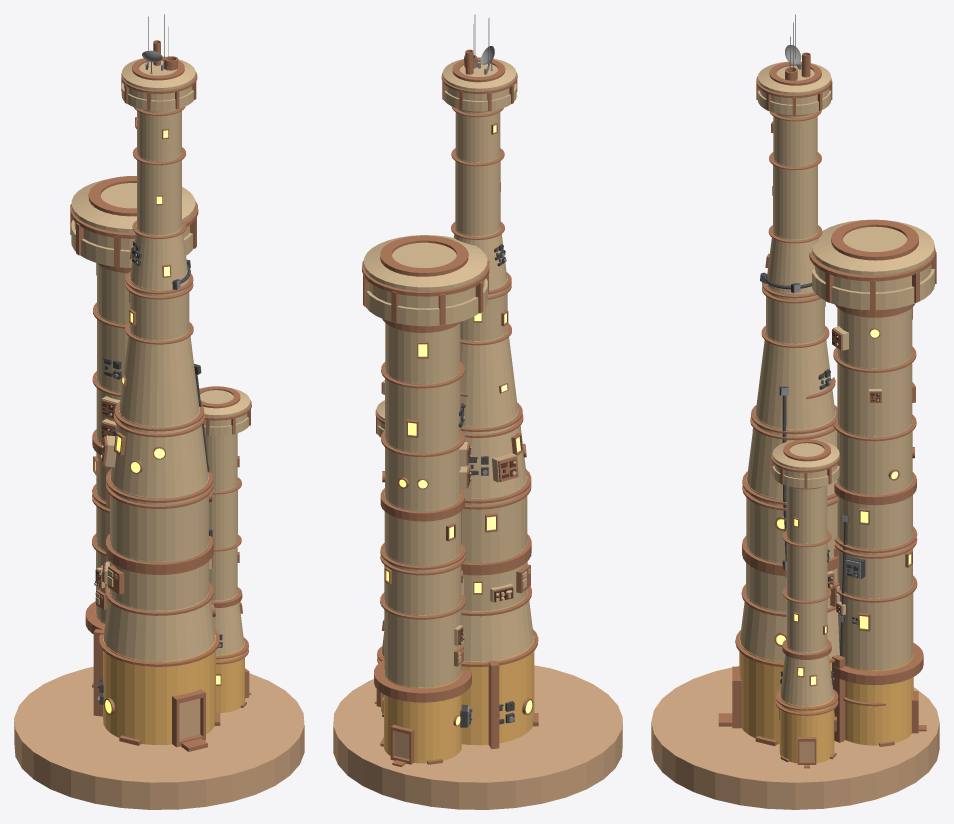
The model's file is nomad_building_13.fbx.
The picture shows the model from 3 angles, left to right: view 1: azimuth 30°, elevation 25°; view 2: azimuth 150°, elevation 25°; view 3: azimuth 270°, elevation 25°; orthographic projection.
Parts seen in each view (by area): view 1: B13_M_Foundation_foundation, B13_M_Drum0, B13_M_Drum5, B13_M_Drum3, B13_M_Drum4, B13_M_Drum1, B13_A1_Crown_RoofCap_Brim, B13_M_Drum2, B13_M_Drum8, B13_M_Drum6, B13_M_Drum7, B13_M_Crown_RoofCap_Brim (+21 smaller); view 2: B13_M_Foundation_foundation, B13_A1_Crown_RoofCap_Brim, B13_A1_Drum1, B13_A1_Drum5, B13_M_Drum0, B13_M_Drum5, B13_A1_Drum0, B13_A1_Drum4, B13_A1_Drum6, B13_M_Drum3, B13_A1_Drum3, B13_M_Drum1 (+17 smaller); view 3: B13_M_Foundation_foundation, B13_A1_Crown_RoofCap_Brim, B13_M_Drum5, B13_A1_Drum5, B13_A1_Drum1, B13_A1_Drum0, B13_A1_Drum4, B13_A1_Drum6, B13_A1_Drum3, B13_M_Drum8, B13_M_Drum0, B13_A1_Drum2 (+24 smaller).
Part boxes in pixels (left/top/right/bottom): B13_M_Foundation_foundation: left=14, top=667, right=304, bottom=809; B13_M_Drum0: left=103, top=634, right=215, bottom=744; B13_M_Drum5: left=119, top=327, right=199, bottom=426; B13_M_Drum3: left=110, top=474, right=208, bottom=561; B13_M_Drum4: left=110, top=407, right=208, bottom=497; B13_M_Drum1: left=103, top=589, right=215, bottom=661; B13_A1_Crown_RoofCap_Brim: left=71, top=179, right=195, bottom=267; B13_M_Drum2: left=109, top=540, right=209, bottom=610; B13_M_Drum8: left=137, top=152, right=181, bottom=234; B13_M_Drum6: left=129, top=276, right=189, bottom=340; B13_M_Drum7: left=130, top=224, right=188, bottom=289; B13_M_Crown_RoofCap_Brim: left=121, top=58, right=195, bottom=111; B13_M_Foundation_foundation: left=333, top=665, right=622, bottom=809; B13_A1_Crown_RoofCap_Brim: left=363, top=235, right=487, bottom=326; B13_A1_Drum1: left=384, top=598, right=461, bottom=687; B13_A1_Drum5: left=385, top=367, right=460, bottom=452; B13_M_Drum0: left=461, top=636, right=534, bottom=745; B13_M_Drum5: left=460, top=327, right=517, bottom=427; B13_A1_Drum0: left=384, top=670, right=461, bottom=763; B13_A1_Drum4: left=385, top=436, right=460, bottom=510; B13_A1_Drum6: left=385, top=323, right=460, bottom=383; B13_M_Drum3: left=461, top=475, right=527, bottom=562; B13_A1_Drum3: left=384, top=494, right=460, bottom=565; B13_M_Drum1: left=461, top=589, right=533, bottom=661; B13_M_Foundation_foundation: left=651, top=666, right=939, bottom=809; B13_A1_Crown_RoofCap_Brim: left=811, top=219, right=934, bottom=310; B13_M_Drum5: left=755, top=331, right=835, bottom=429; B13_A1_Drum5: left=837, top=353, right=912, bottom=436; B13_A1_Drum1: left=838, top=581, right=913, bottom=670; B13_A1_Drum0: left=845, top=654, right=913, bottom=745; B13_A1_Drum4: left=837, top=420, right=912, bottom=494; B13_A1_Drum6: left=837, top=308, right=912, bottom=368; B13_A1_Drum3: left=837, top=478, right=912, bottom=548; B13_M_Drum8: left=773, top=156, right=817, bottom=239; B13_M_Drum0: left=739, top=636, right=839, bottom=744; B13_A1_Drum2: left=837, top=533, right=912, bottom=598.
Size of the model in its own units: 500 by 1397 by 500.
